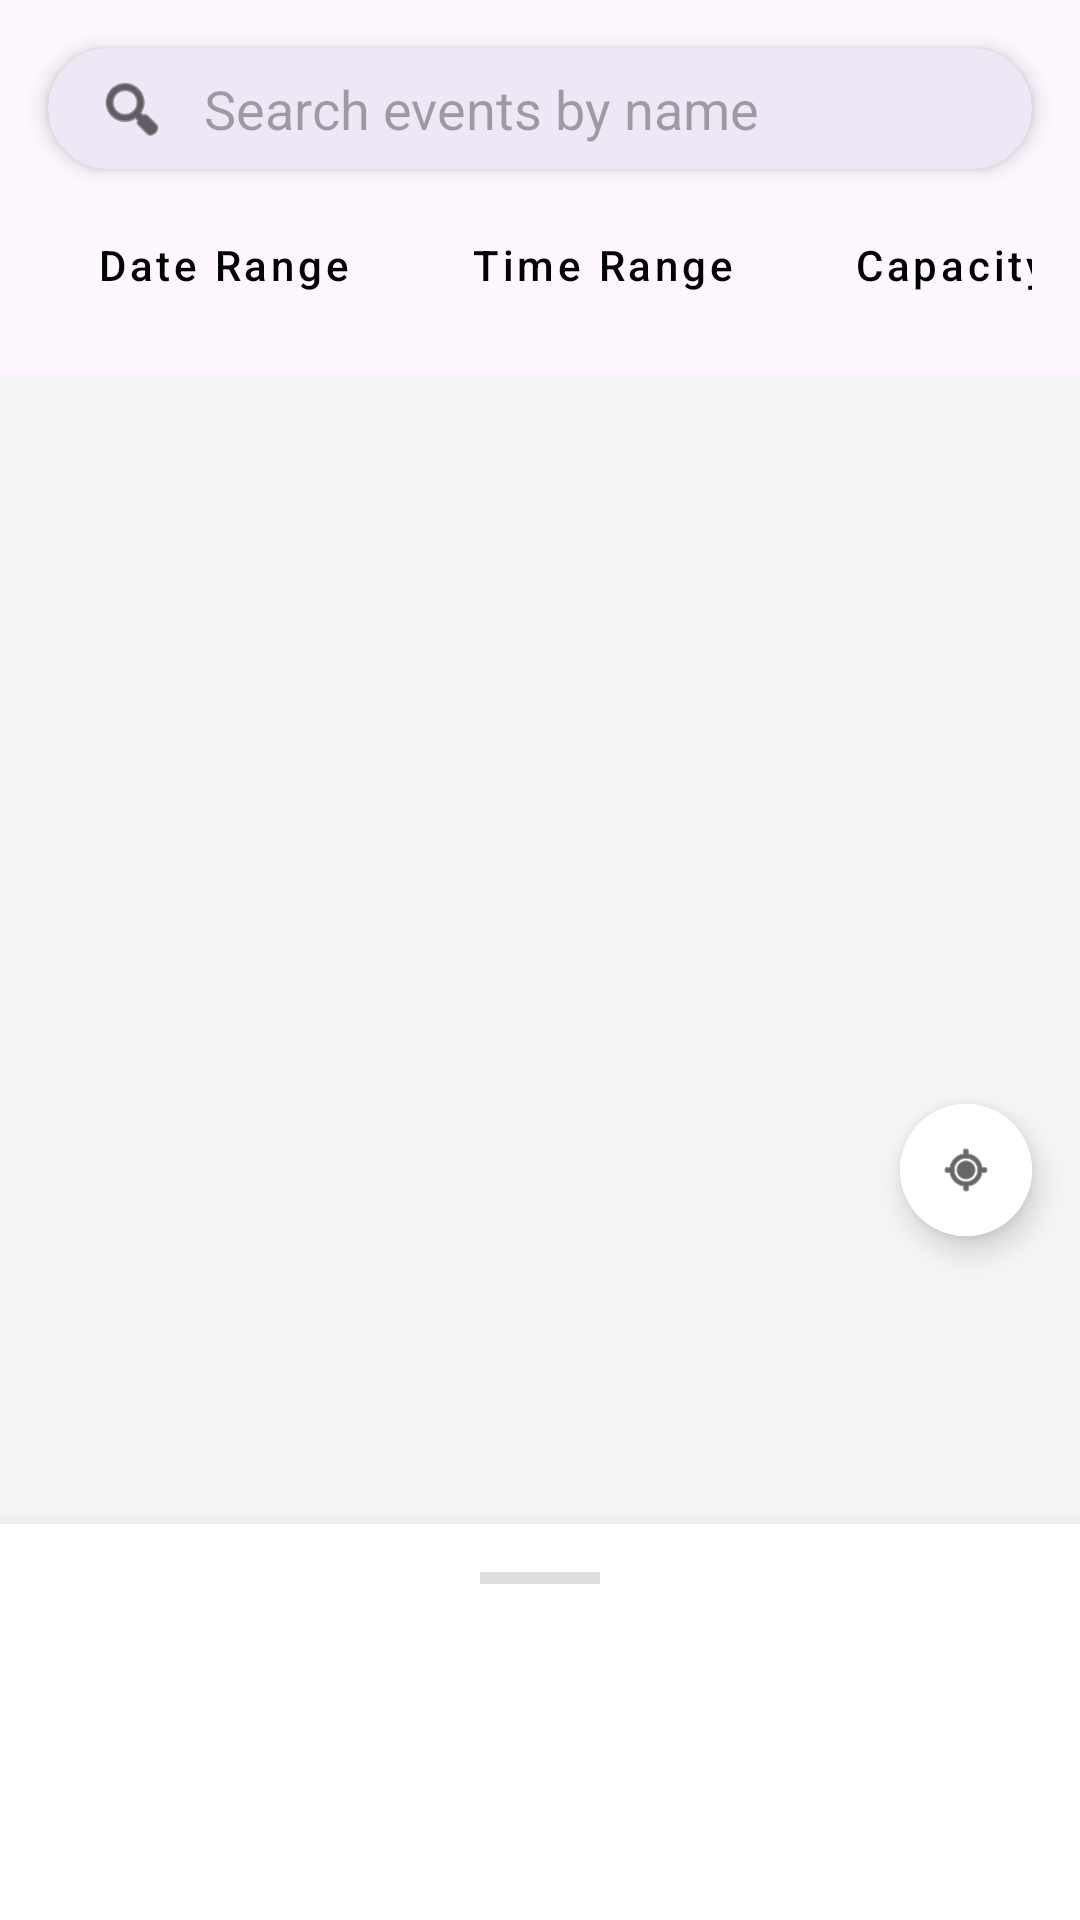

Screen size 1080*1920. Icon name, then its box in pixels as (x1,y1,x2,y2):
Retry location: (900,1104,1032,1236)
